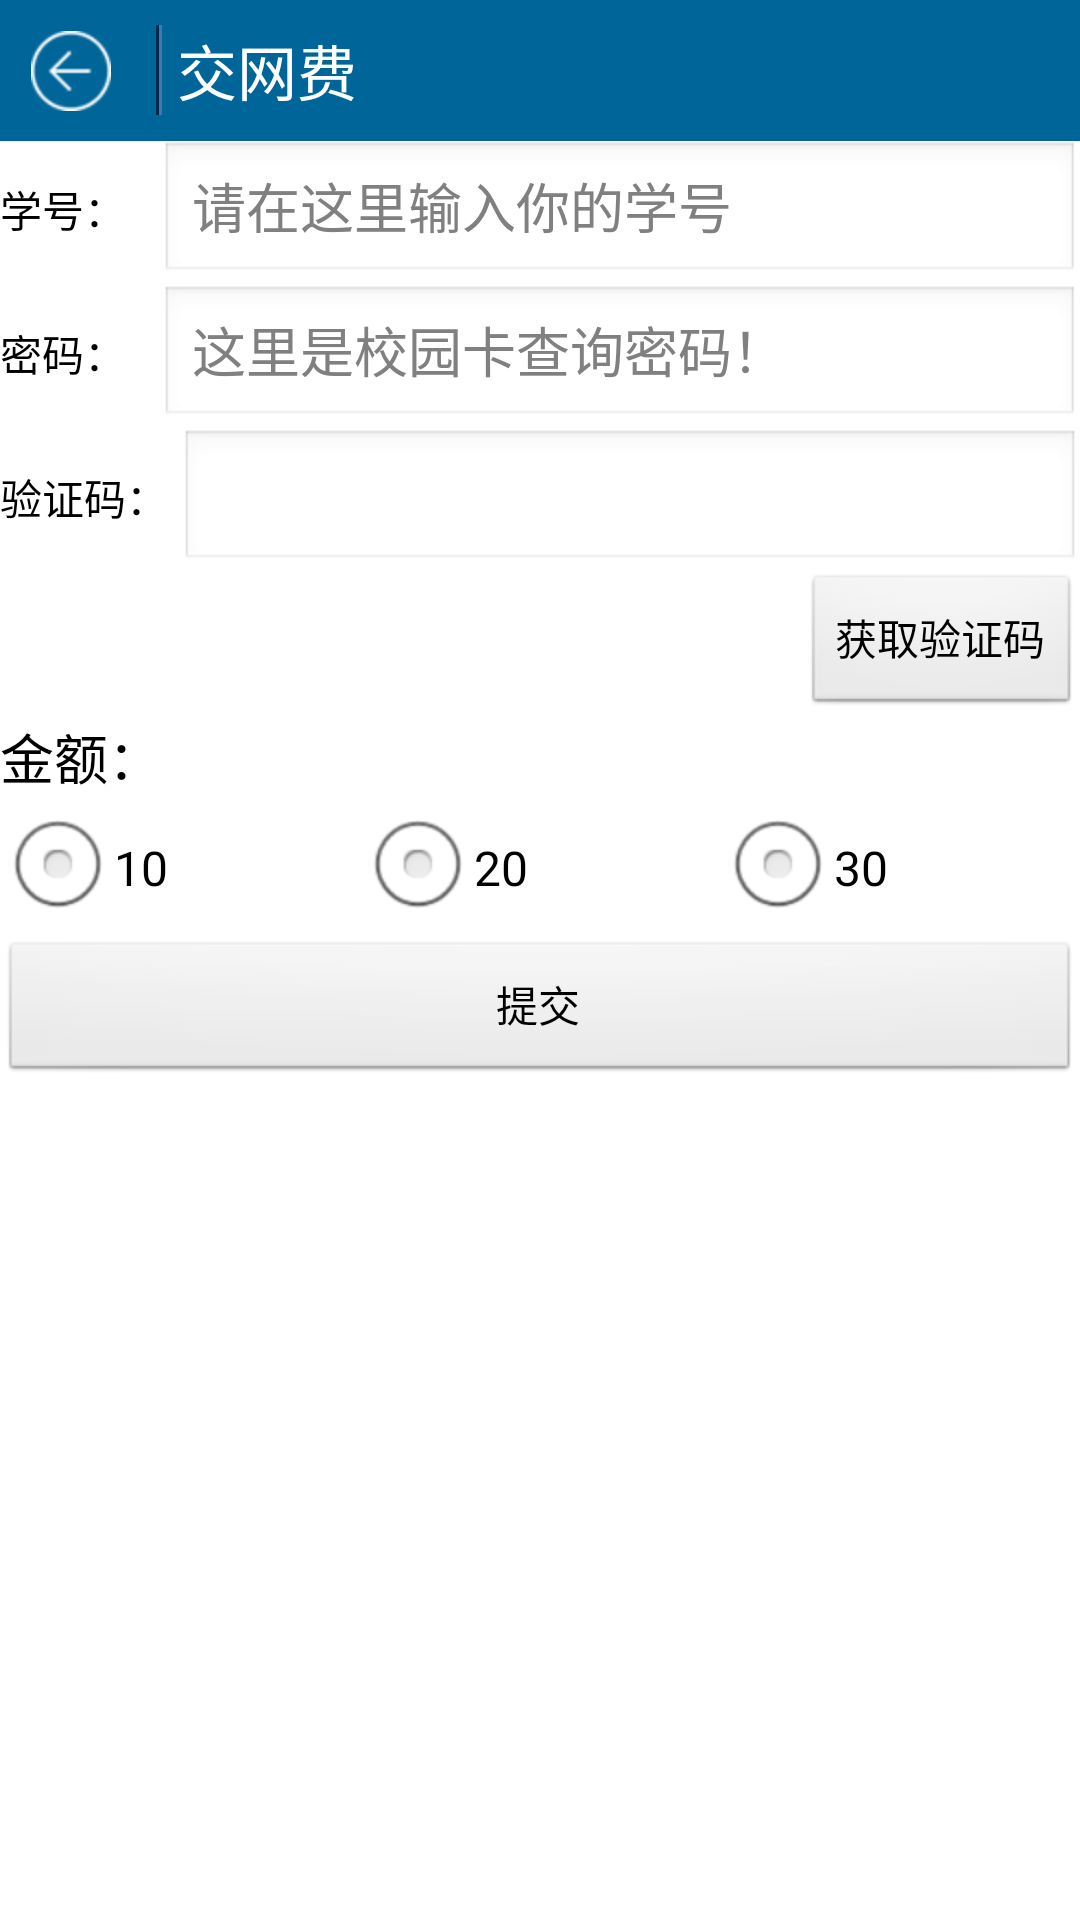

Locate icon controls on the screen. Image size 1080w x 1920h, boxes as Rect(x1, y1, x2, y2).
back: Rect(31, 31, 111, 111)
